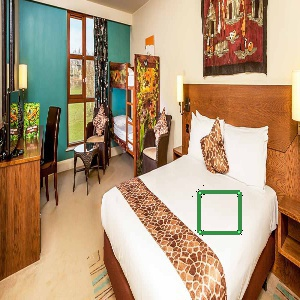square: (195, 187, 244, 237)
